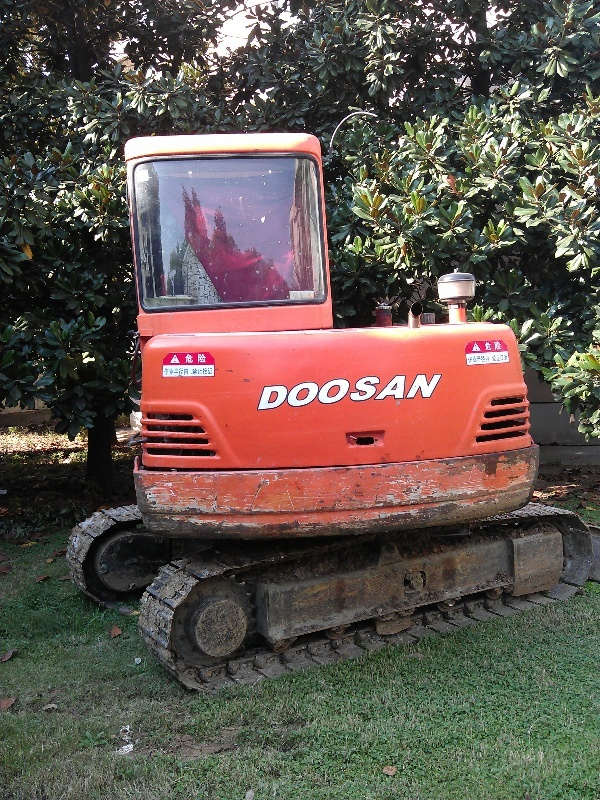text: (257, 370, 272, 410), (273, 370, 288, 410), (289, 370, 304, 410), (305, 370, 320, 410), (321, 370, 336, 410), (337, 370, 352, 410), (353, 370, 368, 410), (369, 370, 384, 410), (385, 370, 400, 410), (401, 370, 416, 410), (417, 370, 432, 410), (433, 370, 444, 410), (193, 354, 209, 364), (483, 340, 496, 352), (193, 368, 208, 376), (497, 354, 508, 363), (164, 369, 176, 376), (177, 369, 189, 376), (468, 356, 480, 363), (184, 354, 192, 364), (497, 340, 503, 352), (481, 356, 491, 363), (492, 354, 496, 363), (209, 368, 213, 376)
